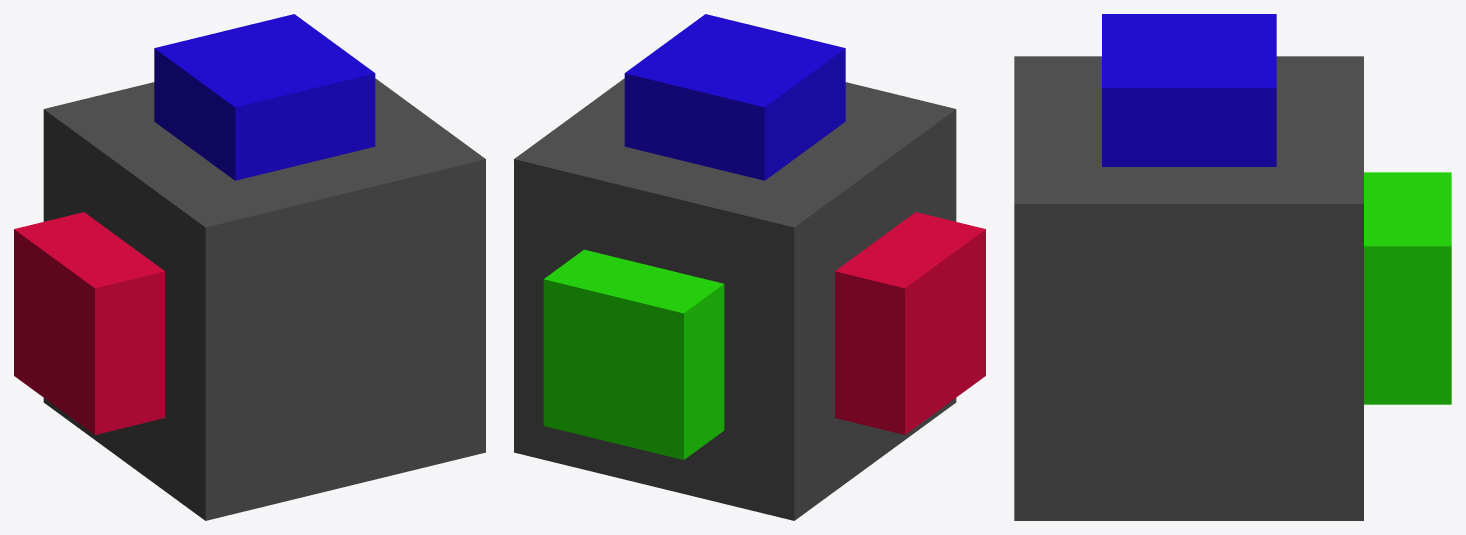
File: DebugCube.fbx
The picture shows the model from 3 angles, left to right: view 1: azimuth 30°, elevation 25°; view 2: azimuth 150°, elevation 25°; view 3: azimuth 270°, elevation 25°; orthographic projection. The views are drawn at different scales.
Visible parts, largest first — view 1: Cube.003; view 2: Cube.003; view 3: Cube.003.
Boxes of the visible parts, left/top/right/bottom form: Cube.003: left=14, top=14, right=485, bottom=520; Cube.003: left=514, top=14, right=985, bottom=520; Cube.003: left=1014, top=14, right=1451, bottom=520.
Size of the model in its own units: 50 by 50 by 50.
